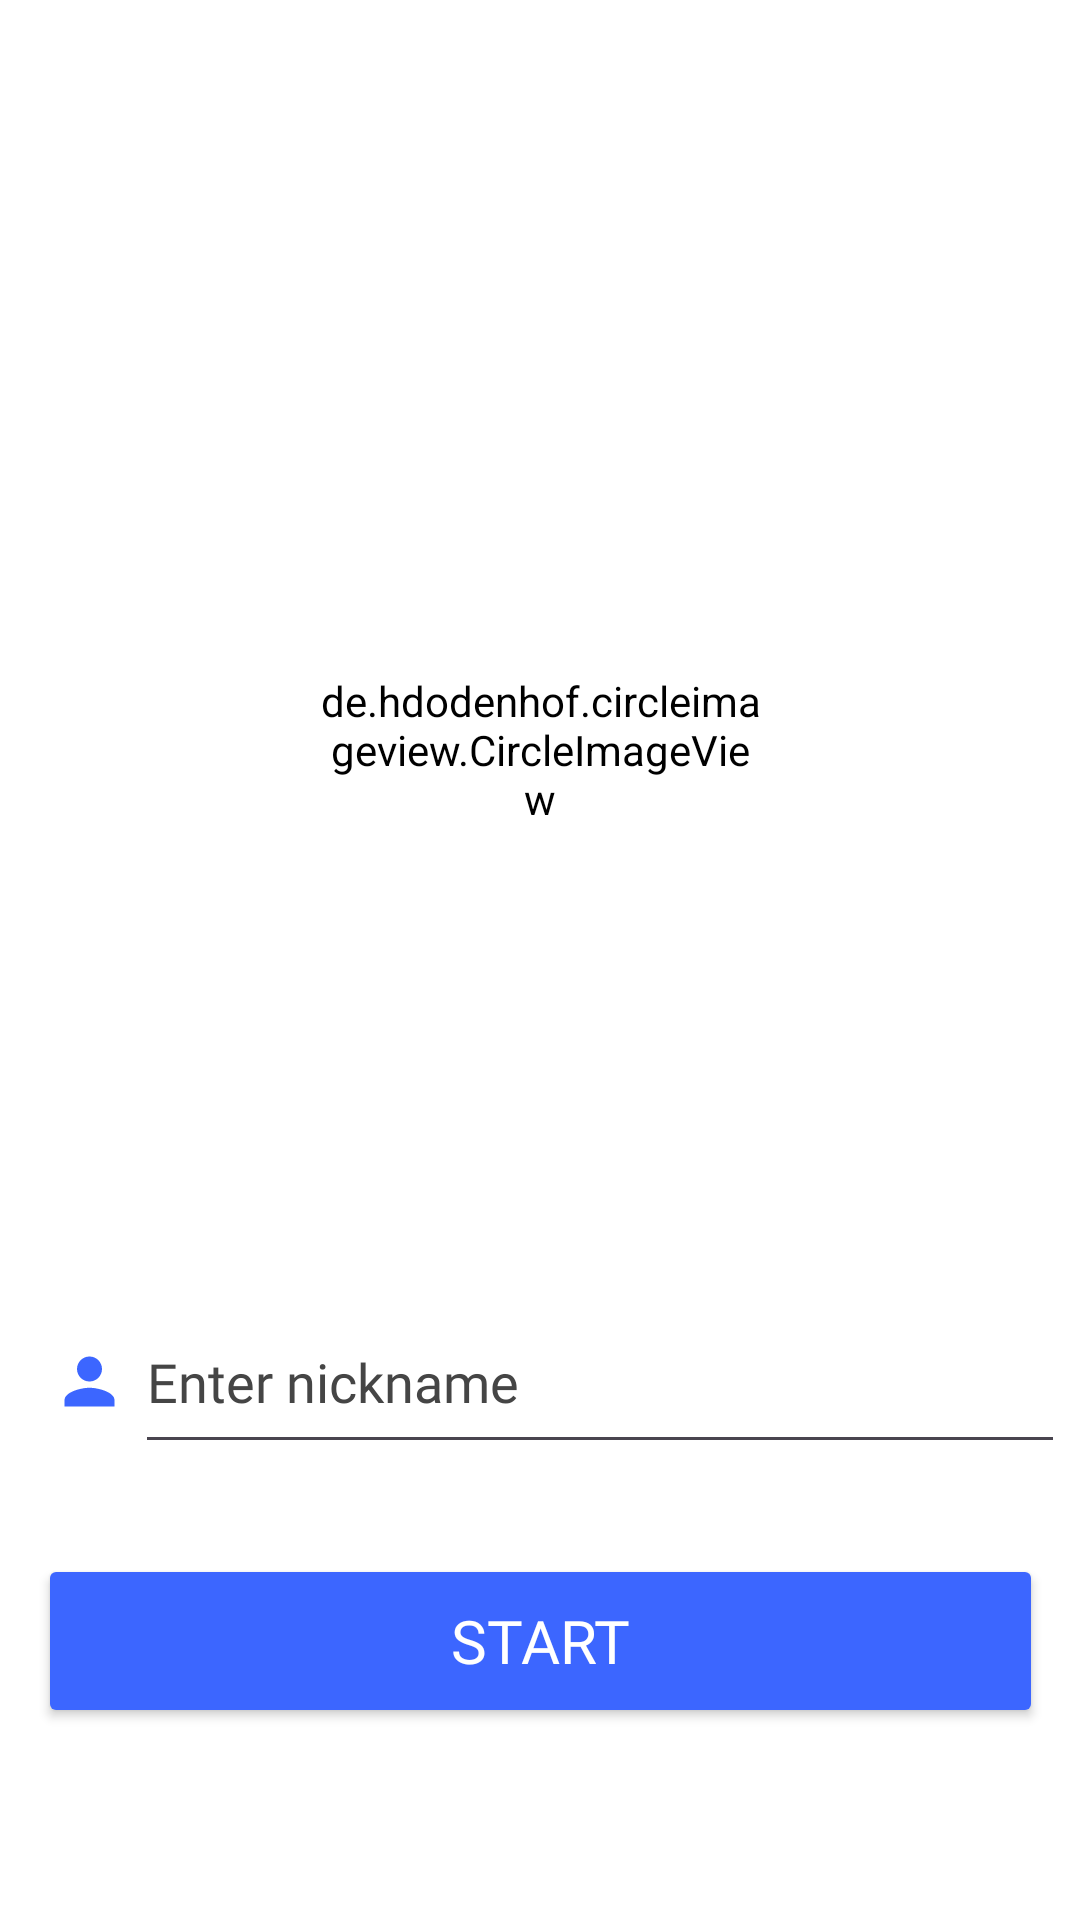

Screen size 1080*1920. Icon name, then its box in pixels as (x1, y1, x2, y2):
person: (64, 1356, 115, 1407)
